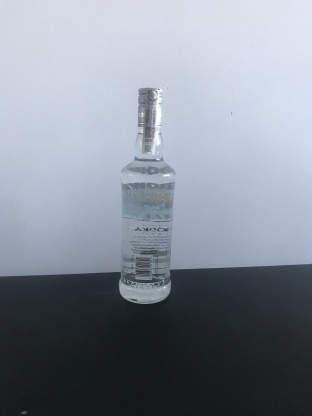nakretka: (135, 84, 164, 130)
